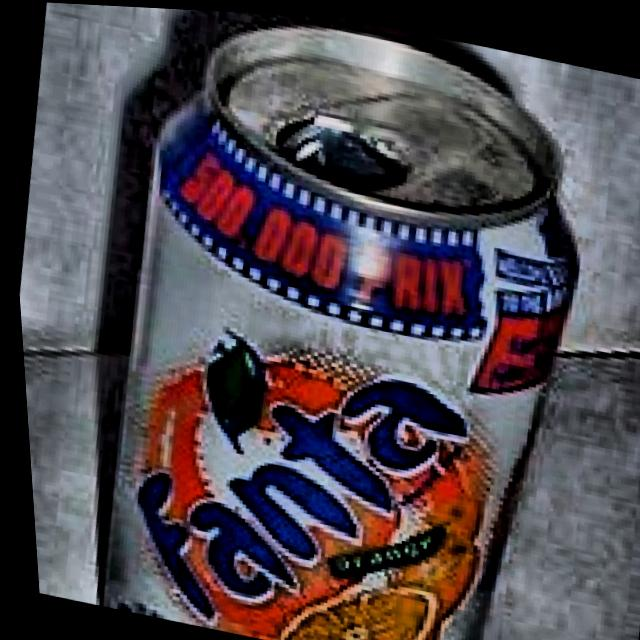Cans: (52, 2, 604, 640)
